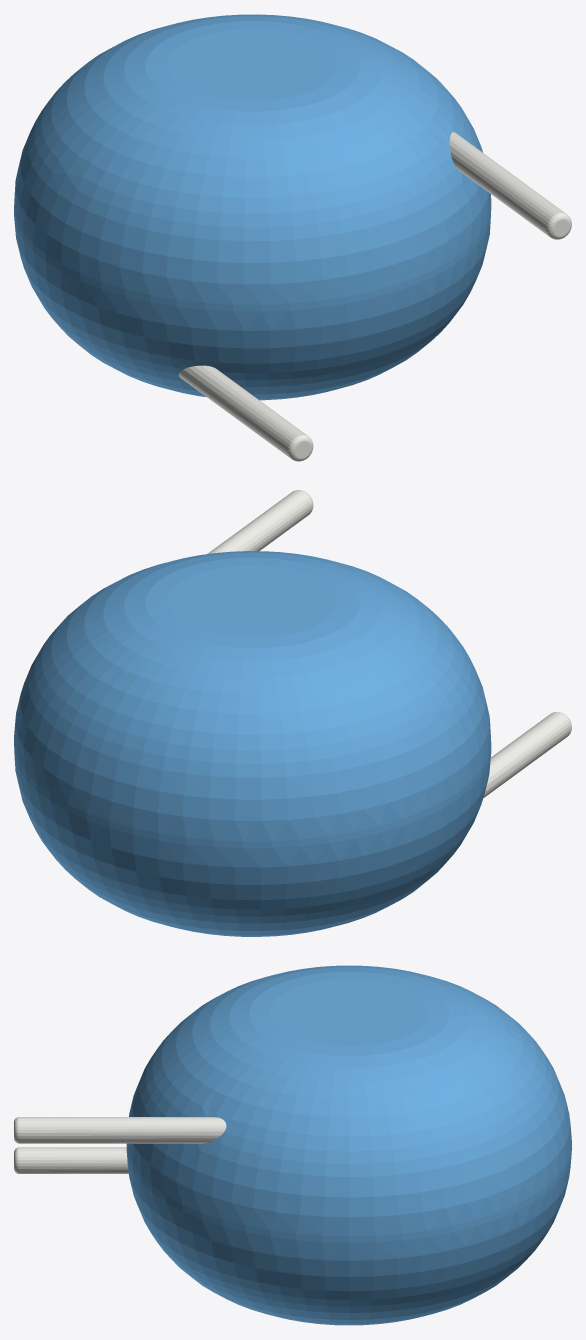
File: RV_Disc_D12mm_W7.9mm_P7.5mm.glb
3 renders of one model, top to bottom at view 1: azimuth 30°, elevation 25°; view 2: azimuth 150°, elevation 25°; view 3: azimuth 270°, elevation 25°, orthographic. The views are drawn at different scales.
Parts seen in each view (by area): view 1: Shape_IndexedFaceSet.001, Shape_IndexedFaceSet.002, Shape_IndexedFaceSet.003, Shape_IndexedFaceSet.006, Shape_IndexedFaceSet, Shape_IndexedFaceSet.004; view 2: Shape_IndexedFaceSet.001, Shape_IndexedFaceSet.002, Shape_IndexedFaceSet.003, Shape_IndexedFaceSet, Shape_IndexedFaceSet.006, Shape_IndexedFaceSet.004; view 3: Shape_IndexedFaceSet.001, Shape_IndexedFaceSet.002, Shape_IndexedFaceSet.003, Shape_IndexedFaceSet.004, Shape_IndexedFaceSet, Shape_IndexedFaceSet.006.
Part boxes in pixels (<box>): Shape_IndexedFaceSet.001: <box>14,14,491,304</box>; Shape_IndexedFaceSet.002: <box>14,216,490,400</box>; Shape_IndexedFaceSet.003: <box>167,29,337,100</box>; Shape_IndexedFaceSet.006: <box>178,365,306,457</box>; Shape_IndexedFaceSet: <box>14,204,491,311</box>; Shape_IndexedFaceSet.004: <box>449,132,565,236</box>; Shape_IndexedFaceSet.001: <box>14,551,491,841</box>; Shape_IndexedFaceSet.002: <box>14,752,491,936</box>; Shape_IndexedFaceSet.003: <box>167,565,337,637</box>; Shape_IndexedFaceSet: <box>14,740,491,848</box>; Shape_IndexedFaceSet.006: <box>483,712,570,797</box>; Shape_IndexedFaceSet.004: <box>207,490,312,553</box>; Shape_IndexedFaceSet.001: <box>126,965,571,1236</box>; Shape_IndexedFaceSet.002: <box>126,1150,571,1325</box>; Shape_IndexedFaceSet.003: <box>269,979,428,1045</box>; Shape_IndexedFaceSet.004: <box>19,1117,226,1143</box>; Shape_IndexedFaceSet: <box>126,1143,571,1242</box>; Shape_IndexedFaceSet.006: <box>19,1147,128,1173</box>.
Bounding box in the file's own units: 4.72 × 3.11 × 5.92.
